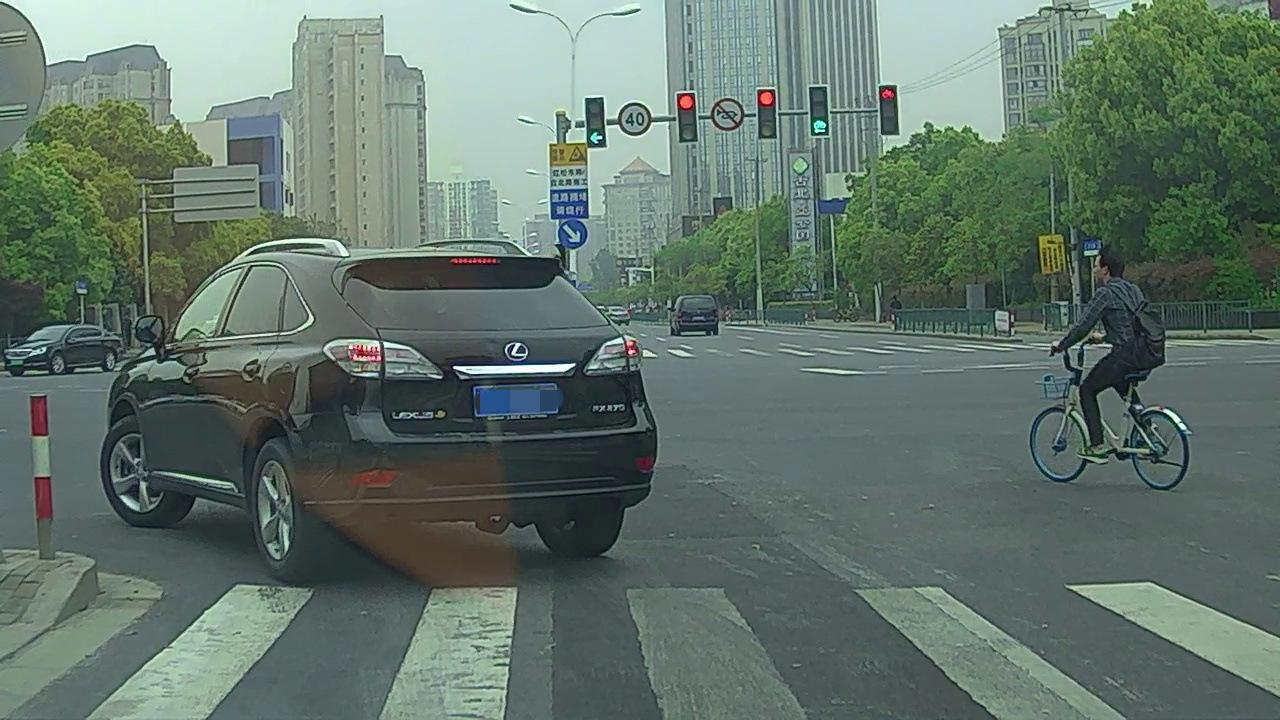traffic_light: (677, 91, 698, 143), (585, 98, 607, 146), (756, 89, 776, 140), (811, 85, 830, 137), (881, 86, 898, 134)
